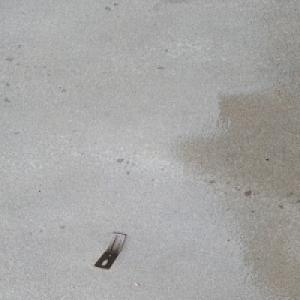MetalPart: (92, 232, 127, 270)
